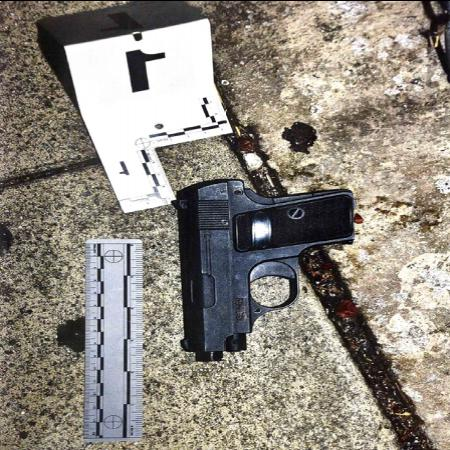Pistol: (174, 182, 354, 360)
